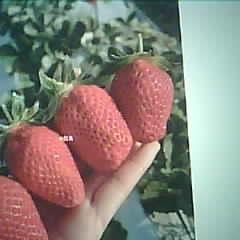straw-ripe: (6, 119, 84, 208), (55, 85, 132, 171), (112, 56, 173, 141)
